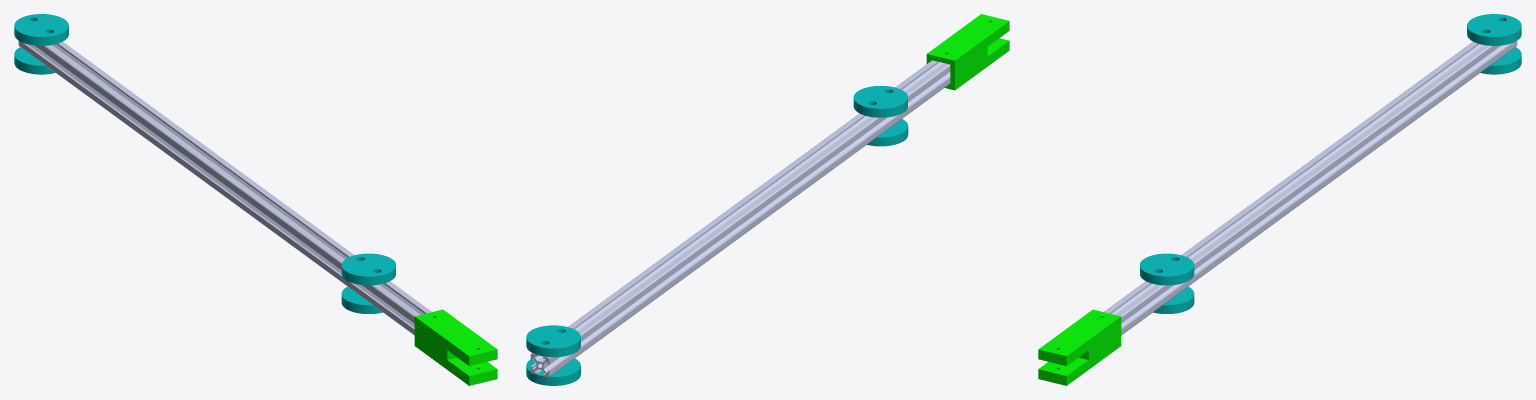
3 views of the same model, side by side, from view 1: azimuth 30°, elevation 25°; view 2: azimuth 150°, elevation 25°; view 3: azimuth 330°, elevation 25° (orthographic).
Visible parts, largest first — view 1: perfil_largo-1, espuela-1, ejeL3-1, ejeL3-4, ejeL3-3, ejeL3-2; view 2: perfil_largo-1, espuela-1, ejeL3-4, ejeL3-1, ejeL3-3, ejeL3-2; view 3: perfil_largo-1, espuela-1, ejeL3-1, ejeL3-4, ejeL3-3, ejeL3-2.
Boxes of the visible parts, x1,y1,x2,y2 form: perfil_largo-1: (18, 41, 431, 335); espuela-1: (414, 309, 497, 385); ejeL3-1: (341, 253, 395, 285); ejeL3-4: (14, 14, 68, 45); ejeL3-3: (14, 47, 55, 74); ejeL3-2: (341, 286, 382, 313); perfil_largo-1: (530, 60, 950, 377); espuela-1: (926, 14, 1009, 90); ejeL3-4: (526, 325, 580, 357); ejeL3-1: (853, 85, 907, 117); ejeL3-3: (526, 358, 580, 385); ejeL3-2: (867, 119, 908, 146); perfil_largo-1: (1104, 41, 1517, 335); espuela-1: (1038, 309, 1121, 385); ejeL3-1: (1140, 253, 1194, 285); ejeL3-4: (1467, 14, 1521, 45); ejeL3-3: (1480, 47, 1521, 74); ejeL3-2: (1153, 286, 1194, 313).
Bounding box in the file's own units: 0.05 × 0.038 × 0.835.
